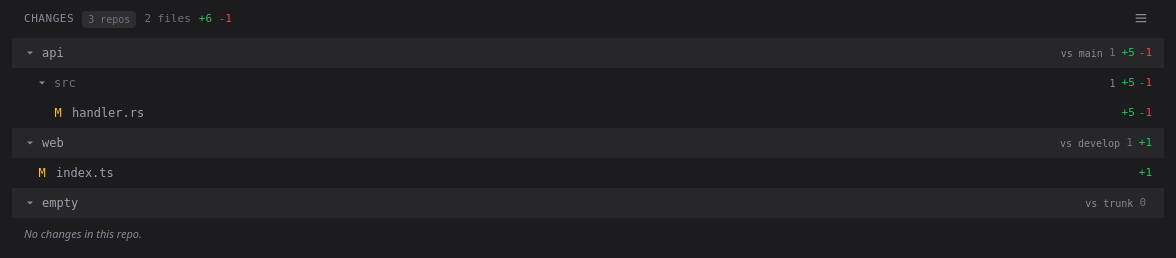
Test: DiffFileList multi-repo grouping › collapses a repo group, hiding its files
The width and height of the screenshot is (1176, 258).
Expected: the text "handler.rs" is shown, [72,106,144,120]
Click the button "api vs main 1 +5 -1": (30, 53) [12,38,1164,68]
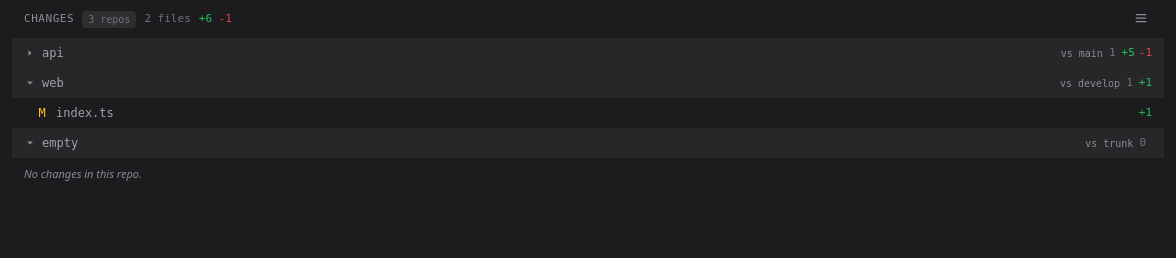
Expected: the button "handler.rs" is gone
